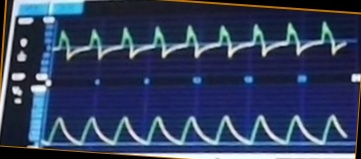Accumulation Flow: (58, 18, 350, 69)
Volume: (48, 104, 349, 149)
